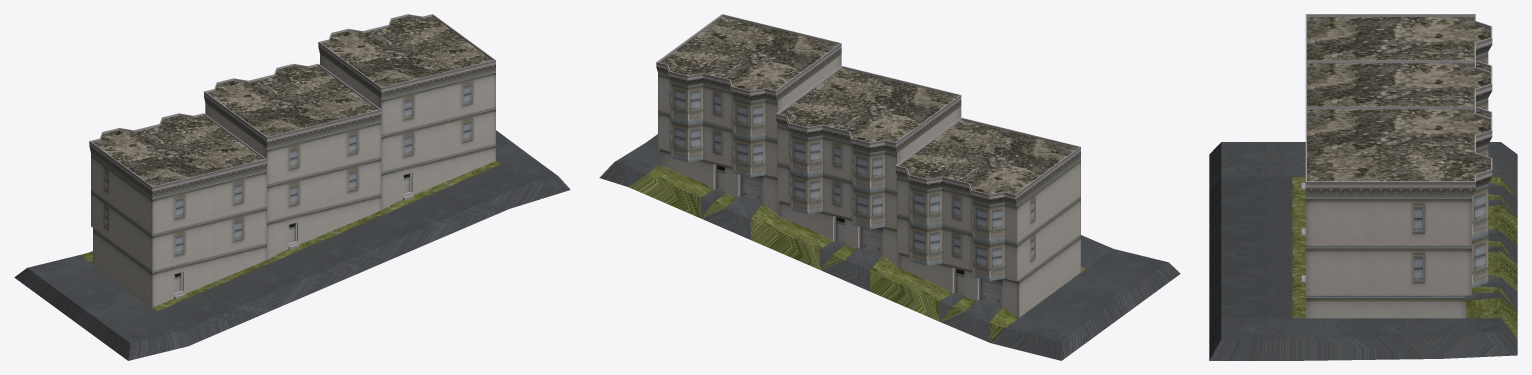
File: vicstuff_sfe22.obj
3 renders of one model, left to right at view 1: azimuth 30°, elevation 25°; view 2: azimuth 150°, elevation 25°; view 3: azimuth 270°, elevation 25°, orthographic. The views are drawn at different scales.
Visible parts, largest first — view 1: vicstuff_sfe22; view 2: vicstuff_sfe22; view 3: vicstuff_sfe22.
Part boxes in pixels (x1=…): vicstuff_sfe22: x1=14, y1=14, x2=570, y2=360; vicstuff_sfe22: x1=599, y1=14, x2=1180, y2=360; vicstuff_sfe22: x1=1209, y1=14, x2=1517, y2=360.
Size of the model in its own units: 70.86 by 26.98 by 31.63.
11 materials, 11 textured.
